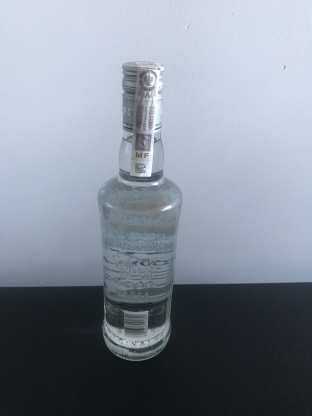nakretka: (119, 56, 166, 135)
